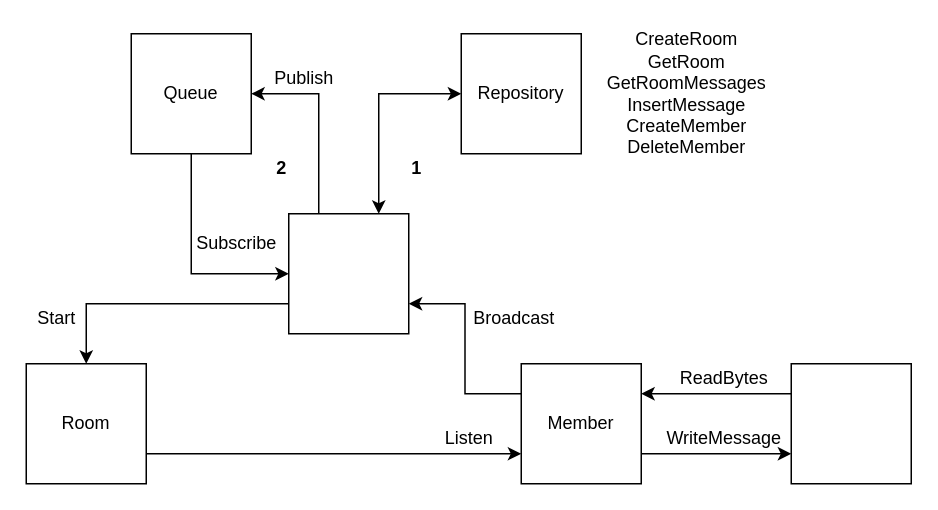
The diagram is 938 pixels wide and 510 high, and some of its shapes have lost their labels. The centre of each missing label's shape, as x and y in pixels:
Connection: (x=850, y=423)
Controller: (x=348, y=273)
